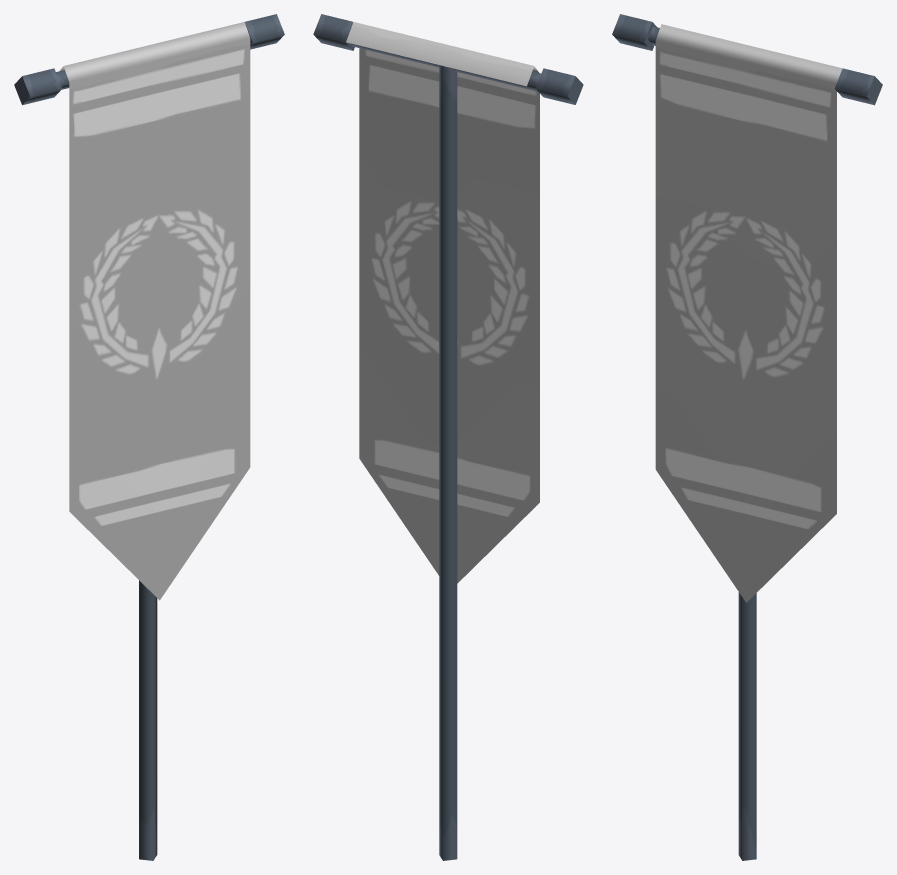
The model's file is BannerStandNarrow1.fbx.
3 renders of one model, left to right at view 1: azimuth 30°, elevation 25°; view 2: azimuth 150°, elevation 25°; view 3: azimuth 330°, elevation 25°, orthographic.
Parts seen in each view (by area): view 1: BannerSmallNarrow1, BannerStand, BannerStandNarrow1; view 2: BannerSmallNarrow1, BannerStand, BannerStandNarrow1, BannerSmallNarrow2; view 3: BannerSmallNarrow1, BannerStand, BannerStandNarrow1.
Boxes of the visible parts, <box> form: BannerSmallNarrow1: <box>60,22,250,600</box>; BannerStand: <box>139,580,157,860</box>; BannerStandNarrow1: <box>14,14,284,105</box>; BannerSmallNarrow1: <box>346,22,539,583</box>; BannerStand: <box>439,65,457,860</box>; BannerStandNarrow1: <box>313,14,583,104</box>; BannerSmallNarrow2: <box>350,24,536,71</box>; BannerSmallNarrow1: <box>655,24,842,602</box>; BannerStand: <box>738,592,756,860</box>; BannerStandNarrow1: <box>612,14,882,105</box>.
Bounding box in the file's own units: 175 × 534 × 19.19.
